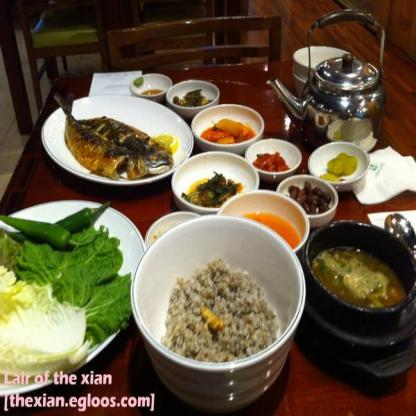Peixe: (63, 90, 179, 180)
